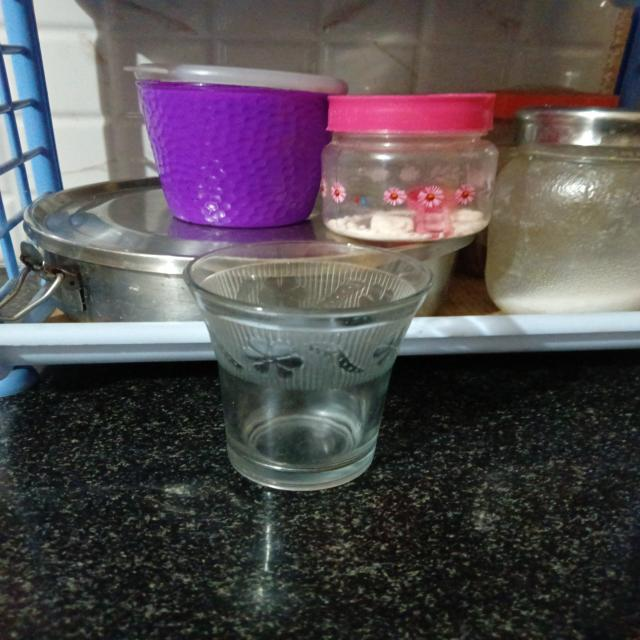Glass: (180, 235, 438, 494)
